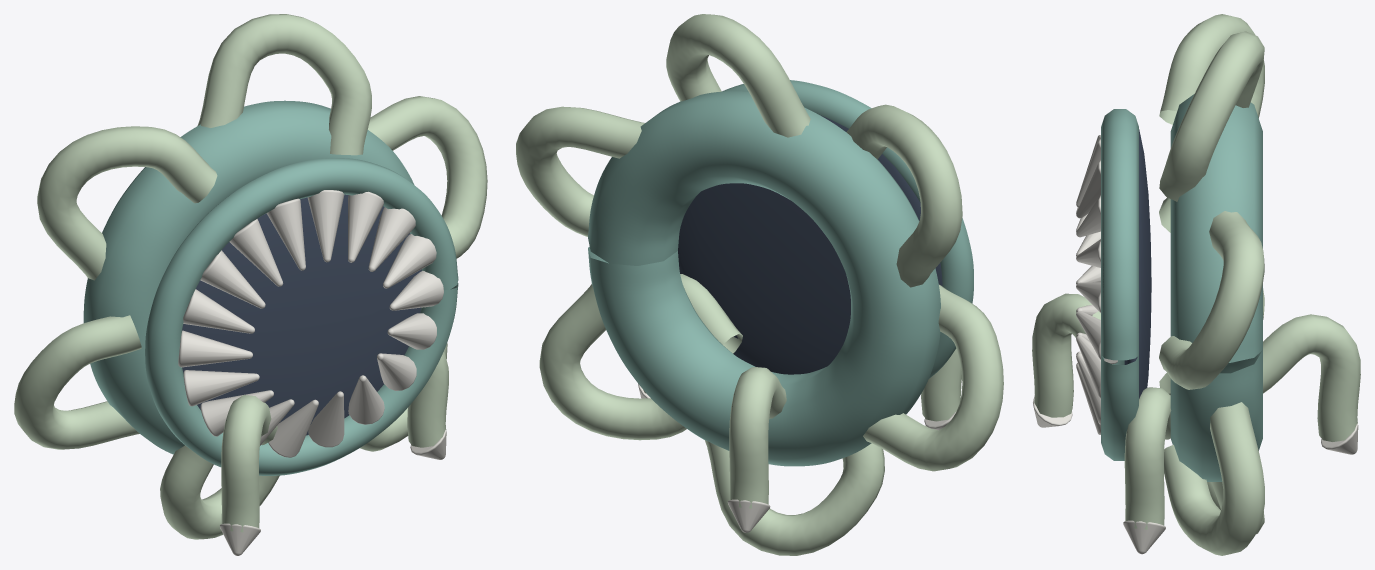
The model's file is bio_spiral_maw_10_near.glb.
The picture shows the model from 3 angles, left to right: view 1: azimuth 30°, elevation 25°; view 2: azimuth 150°, elevation 25°; view 3: azimuth 270°, elevation 25°; orthographic projection. The views are drawn at different scales.
Visible parts, largest first — view 1: Inward tooth, Rear muscular torus, Recessed mouth cavity, Raised oral lip, Coiling oral limb.001, Coiling oral limb.002, Coiling oral limb.003, Coiling oral limb, Crooked support.001, Coiling oral limb.004, Crooked support.002, Coiling oral limb.005 (+1 smaller); view 2: Rear muscular torus, Recessed mouth cavity, Coiling oral limb.003, Coiling oral limb.002, Coiling oral limb.001, Coiling oral limb.005, Coiling oral limb, Coiling oral limb.004, Crooked support, Raised oral lip, Crooked support.001, Crooked support.002 (+1 smaller); view 3: Rear muscular torus, Raised oral lip, Coiling oral limb.005, Coiling oral limb, Coiling oral limb.001, Crooked support, Inward tooth, Crooked support.002, Crooked support.001, Coiling oral limb.002, Recessed mouth cavity, Contact spur.002 (+3 smaller).
Boxes of the visible parts, x1,y1,x2,y2 form: Inward tooth: [178, 190, 443, 457]; Rear muscular torus: [83, 100, 414, 454]; Recessed mouth cavity: [182, 194, 421, 435]; Raised oral lip: [145, 158, 458, 475]; Coiling oral limb.001: [197, 14, 371, 155]; Coiling oral limb.002: [37, 126, 217, 280]; Coiling oral limb.003: [14, 315, 141, 449]; Coiling oral limb: [368, 96, 487, 258]; Crooked support.001: [221, 395, 277, 532]; Coiling oral limb.004: [160, 445, 279, 539]; Crooked support.002: [407, 352, 448, 447]; Coiling oral limb.005: [360, 343, 447, 451]; Rear muscular torus: [588, 91, 940, 466]; Recessed mouth cavity: [678, 115, 942, 374]; Coiling oral limb.003: [863, 284, 1003, 471]; Coiling oral limb.002: [846, 104, 962, 287]; Coiling oral limb.001: [666, 14, 810, 137]; Coiling oral limb.005: [539, 284, 686, 440]; Coiling oral limb: [516, 106, 644, 236]; Coiling oral limb.004: [705, 440, 884, 555]; Crooked support: [729, 367, 786, 508]; Raised oral lip: [722, 80, 973, 378]; Crooked support.001: [921, 348, 961, 421]; Crooked support.002: [643, 274, 742, 393]; Rear muscular torus: [1170, 94, 1262, 481]; Raised oral lip: [1101, 109, 1138, 460]; Coiling oral limb.005: [1164, 402, 1264, 555]; Coiling oral limb: [1159, 211, 1264, 389]; Coiling oral limb.001: [1159, 31, 1264, 201]; Crooked support: [1263, 314, 1360, 441]; Inward tooth: [1076, 135, 1117, 434]; Crooked support.002: [1124, 387, 1171, 529]; Crooked support.001: [1032, 293, 1100, 417]; Coiling oral limb.002: [1159, 14, 1264, 124]; Recessed mouth cavity: [1124, 129, 1151, 398]; Contact spur.002: [1123, 520, 1165, 554].
Size of the model in its own units: 2.64 by 2.74 by 1.56.
